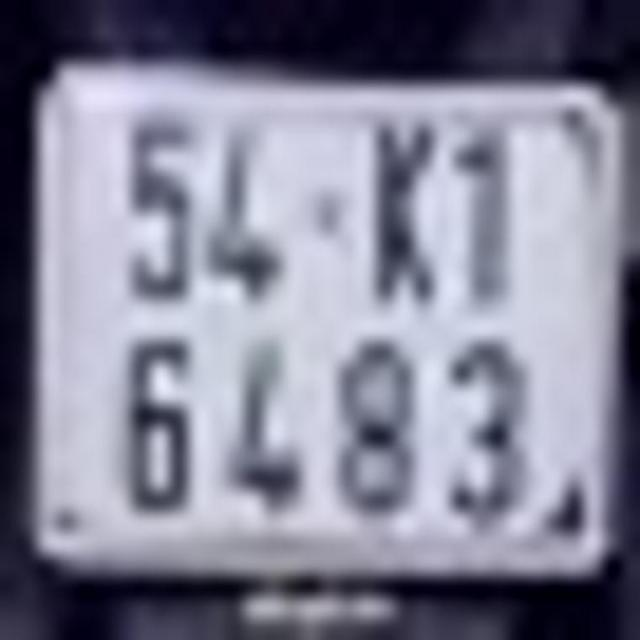1: (453, 122, 515, 316)
3: (447, 337, 532, 536)
4: (225, 324, 299, 524), (203, 114, 281, 296)
5: (128, 113, 192, 304)
6: (127, 327, 195, 515)
8: (338, 327, 418, 515)
K: (371, 118, 446, 308)
